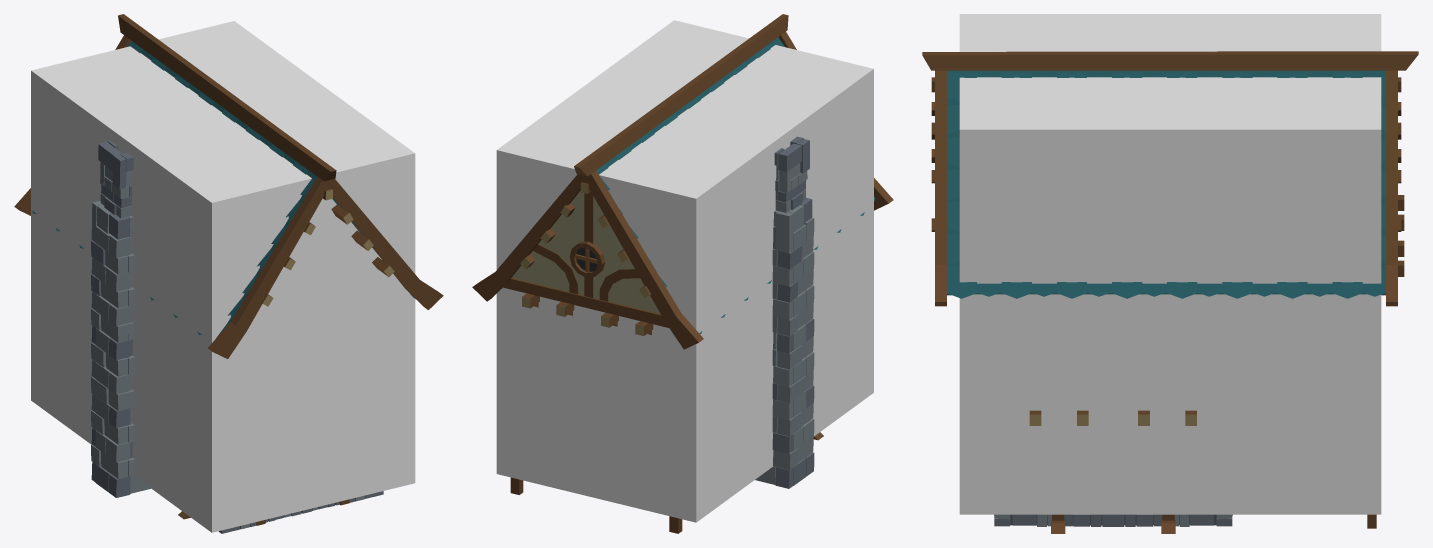
The model's file is cc0_cabin.glb.
3 renders of one model, left to right at view 1: azimuth 30°, elevation 25°; view 2: azimuth 150°, elevation 25°; view 3: azimuth 270°, elevation 25°, orthographic. The views are drawn at different scales.
Parts seen in each view (by area): view 1: COL_Solid_Cabin, House_2; view 2: COL_Solid_Cabin, House_2; view 3: COL_Solid_Cabin, House_2.
Part boxes in pixels (box(x1,y1,x2,y2)): COL_Solid_Cabin: box(31, 21, 415, 532); House_2: box(14, 14, 443, 533); COL_Solid_Cabin: box(496, 20, 873, 522); House_2: box(472, 14, 893, 533); COL_Solid_Cabin: box(959, 14, 1381, 514); House_2: box(922, 51, 1418, 533).
Size of the model in its own units: 3.76 by 5.5 by 5.79.
1 material, 1 textured.
